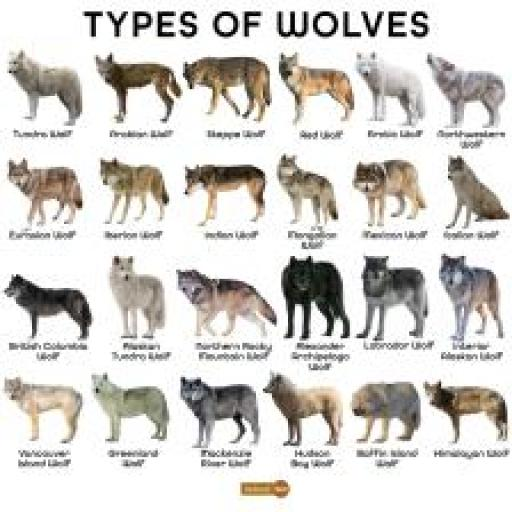wolf: (172, 258, 281, 341), (0, 34, 86, 132), (350, 247, 432, 344), (268, 247, 353, 340), (425, 247, 506, 344), (340, 151, 438, 230), (2, 265, 98, 344), (413, 374, 512, 450), (180, 50, 276, 128), (420, 44, 508, 129), (267, 144, 351, 232), (258, 373, 353, 448), (176, 375, 267, 448), (274, 44, 357, 124), (91, 50, 182, 122), (2, 153, 87, 230), (89, 372, 176, 447), (0, 370, 85, 446), (352, 46, 430, 127), (183, 160, 274, 229), (436, 149, 508, 233), (94, 153, 178, 225), (103, 258, 174, 341), (347, 375, 424, 446)
